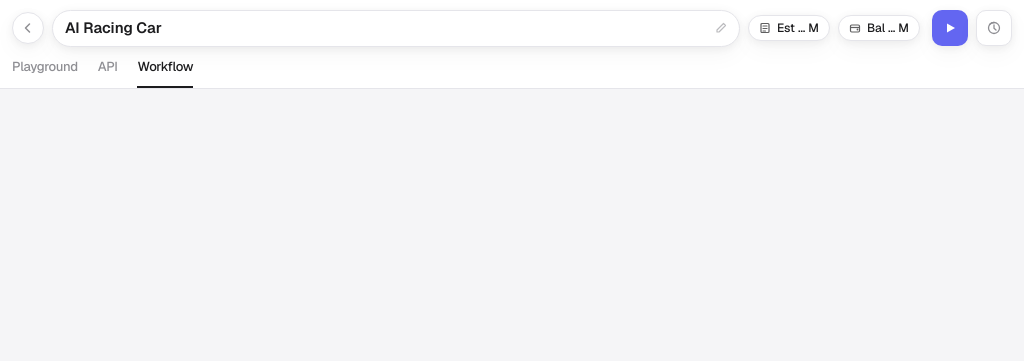
Test: FE run triggers (Slice 8) › 4xx error envelope message surfaces in UI
Expected: the element with test id "workflow-editor" is shown, [0, 0, 1023, 89]
Click the button with test id "workflow-play" at (950, 28), box [932, 10, 968, 46]
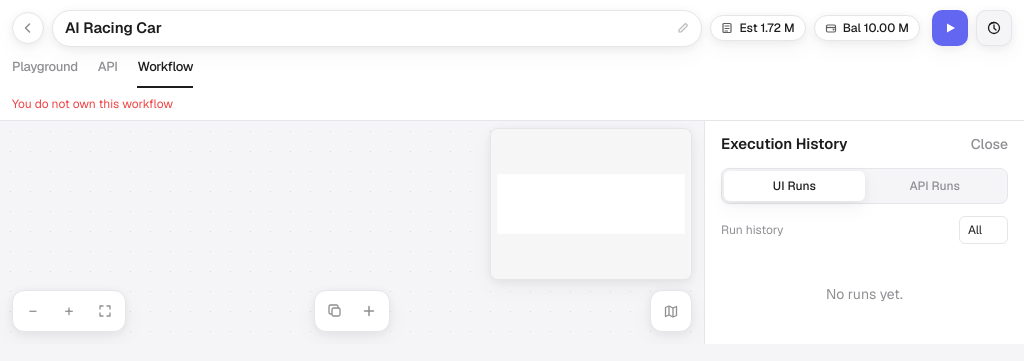
Expected: the message with test id "run-status" reads "You do not own this workflow", [12, 96, 173, 112]
